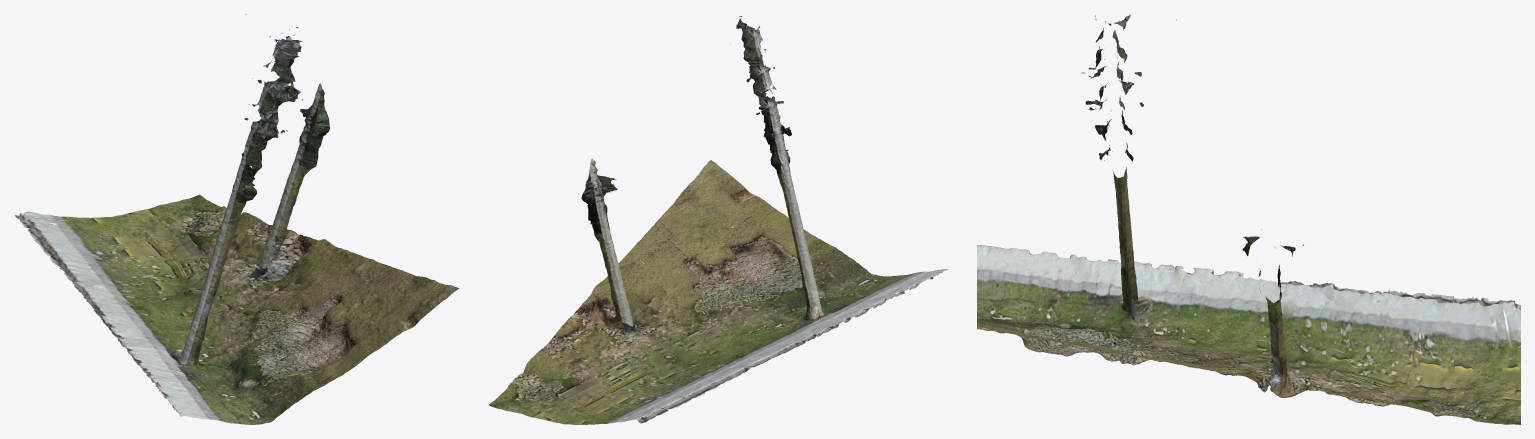
3 views of the same model, side by side, from view 1: azimuth 30°, elevation 25°; view 2: azimuth 150°, elevation 25°; view 3: azimuth 270°, elevation 25° (orthographic). The views are drawn at different scales.
Bounding box in the file's own units: 6.25 × 7.32 × 10.11.
Materials: 2 (2 with a texture image).
